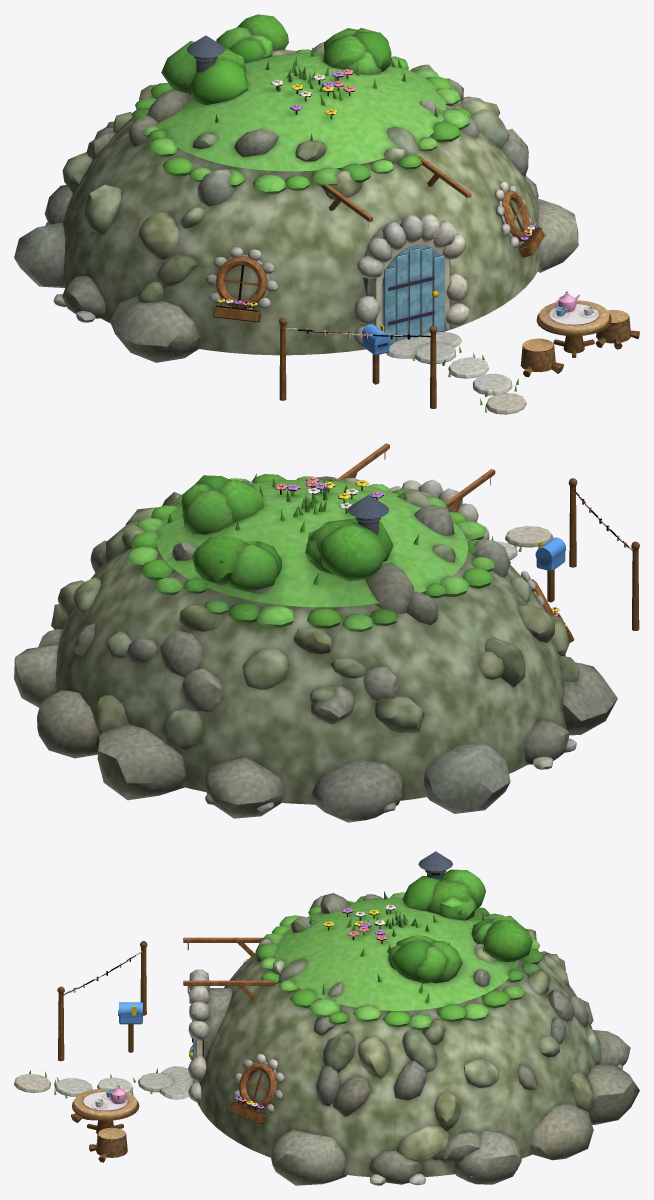
Rendered from hachiCave.glb.
The picture shows the model from 3 angles, top to bottom: view 1: azimuth 30°, elevation 25°; view 2: azimuth 150°, elevation 25°; view 3: azimuth 270°, elevation 25°; orthographic projection. The views are drawn at different scales.
Visible parts, largest first — view 1: cap; view 2: cap; view 3: cap.
Boxes of the visible parts, bbox=[...] form: cap: bbox=[14, 14, 639, 414]; cap: bbox=[14, 443, 639, 822]; cap: bbox=[14, 851, 639, 1185].
Bounding box in the file's own units: 15.31 × 7.56 × 19.72.
1 material, 1 textured.
